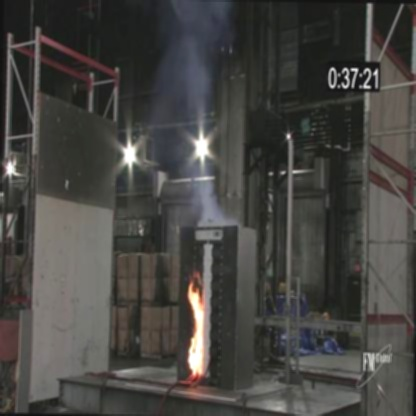fire: (181, 276, 210, 376)
